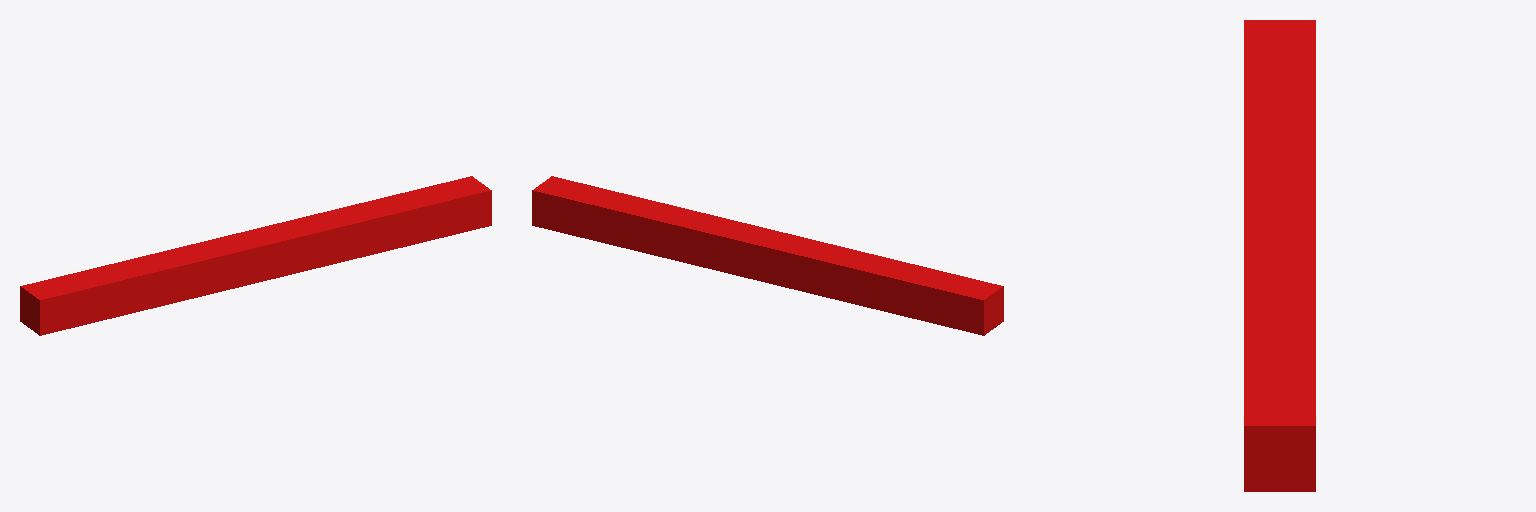
The robot description file, URDF, robot "lbr_iiwa":
<?xml version="1.0" ?>
<robot name="lbr_iiwa">
    <link name="world" />    

    <link name="link1">
    <inertial>
      <origin rpy="0 0 0" xyz="0.5 0 0"/>
      <mass value="1"/>
      <inertia ixx="0.05" ixy="0" ixz="0" iyy="0.06" iyz="0" izz="0.03"/>
    </inertial>
    <visual>
      <origin rpy="0 0 0" xyz="0.5 0 0"/>
      <geometry>
        <box size="1 0.15 0.15"/>
      </geometry>
      <material name="red">
        <color rgba=".9 .1 .1 1"/>
      </material>
    </visual>
    <collision>
      <origin rpy="0 0 0" xyz="0.5 0 0"/>
      <geometry>
        <box size="1 0.15 0.15"/>
      </geometry>
      <material name="Grey"/>
    </collision>    
  </link>    

    <link name="link2">
    <inertial>
      <origin rpy="0 0 0" xyz="0.5 0 0"/>
      <mass value="1"/>
      <inertia ixx="0.05" ixy="0" ixz="0" iyy="0.06" iyz="0" izz="0.03"/>
    </inertial>
    <visual>
      <origin rpy="0 0 0" xyz="0.5 0 0"/>
      <geometry>
        <box size="1 0.15 0.15"/>
      </geometry>
      <material name="red">
        <color rgba=".9 .1 .1 1"/>
      </material>
    </visual>
    <collision>
      <origin rpy="0 0 0" xyz="0.5 0 0"/>
      <geometry>
        <box size="1 0.15 0.15"/>
      </geometry>
      <material name="Grey"/>
    </collision>    
  </link>

  <link name="end_effector">
    <collision>
      <origin rpy="0 0 0" xyz="0 0 0"/>
      <geometry>
        <box size="0 0 0"/>
      </geometry>
      <material name="Grey"/>
    </collision>
  </link>   

  <joint name="joint1" type="revolute">
    <parent link="world"/>
    <child link="link1"/>
    <origin rpy="0 0 0" xyz="0 0 5"/>
    <axis xyz="0 0 1"/>
    <limit effort="150" lower="-3.14159265358979323846" upper="3.14159265358979323846" velocity="10"/>    
    <dynamics damping="5.0"/>
  </joint>

  <joint name="joint2" type="revolute">
    <parent link="link1"/>
    <child link="link2"/>
    <origin rpy="-1.57079632679489661923 0 0" xyz="1 0 0"/>
    <axis xyz="0 0 1"/>
    <limit effort="70" lower="-3.14159265358979323846" upper="3.14159265358979323846" velocity="10"/>    
    <dynamics damping="5.0"/>
  </joint>

  <joint name="joint3" type="fixed">    
    <parent link="link2"/>
    <child link="end_effector"/>
    <origin rpy="1.57079632679489661923 0 0" xyz="1 0 0"/>
    <axis xyz="0 0 1"/>
    <limit effort="40" lower="-3.14159265358979323846" upper="3.14159265358979323846" velocity="10"/>    
    <dynamics damping="5.0"/>
  </joint>
  
  

    
</robot>

--- Facts derived from the render (not from the file) ---
The picture shows the robot from 3 angles, left to right: view 1: azimuth 30°, elevation 25°; view 2: azimuth 150°, elevation 25°; view 3: azimuth 270°, elevation 25°; orthographic projection.
Model lbr_iiwa with 4 links and 3 joints (2 revolute, 1 fixed), rooted at world, posed all joints at 0.
Visible links, largest first — view 1: link1, link2; view 2: link1, link2; view 3: link2, link1.
Boxes of the visible links, bbox=[...] form: link1: bbox=[20, 231, 265, 335]; link2: bbox=[247, 176, 491, 280]; link1: bbox=[758, 231, 1003, 335]; link2: bbox=[532, 176, 776, 280]; link2: bbox=[1244, 223, 1315, 491]; link1: bbox=[1244, 20, 1315, 222].
Size in the robot's own frame: 2 by 0.15 by 0.15 metres.
Geometry: primitives only (box / cylinder / sphere), no mesh files.